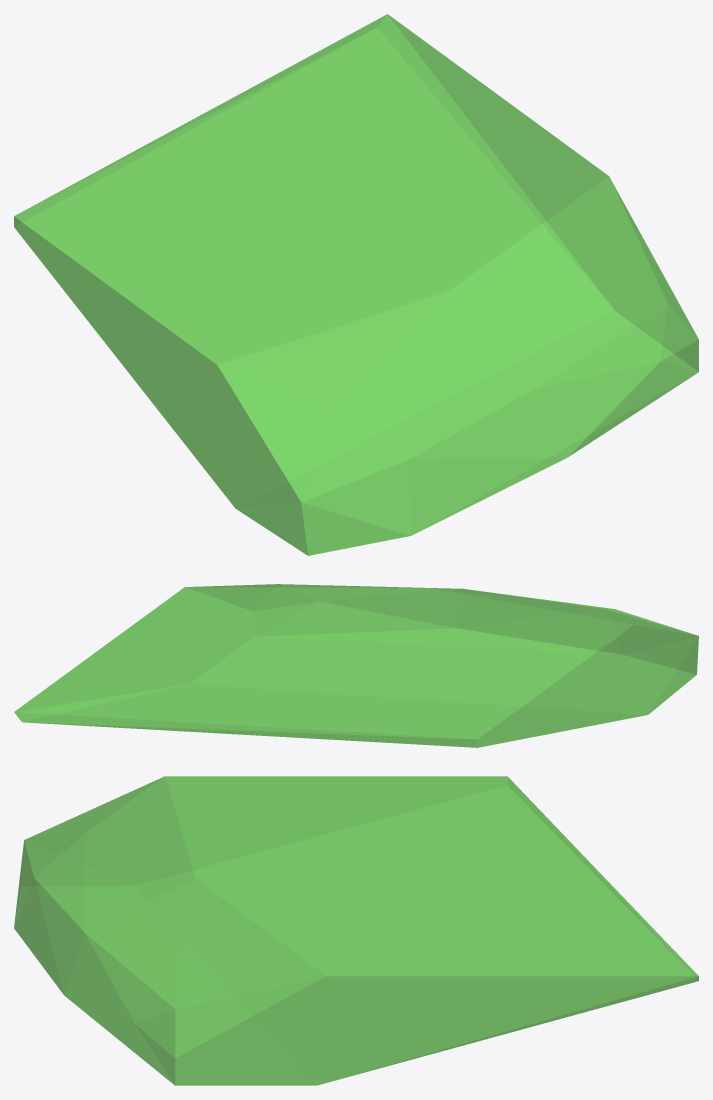
3 views of the same model, one above another, from view 1: azimuth 30°, elevation 25°; view 2: azimuth 150°, elevation 25°; view 3: azimuth 270°, elevation 25° (orthographic). The views are drawn at different scales.
Visible parts, largest first — view 1: Shape_IndexedFaceSet.014_Shape_IndexedFaceSet.7620; view 2: Shape_IndexedFaceSet.014_Shape_IndexedFaceSet.7620; view 3: Shape_IndexedFaceSet.014_Shape_IndexedFaceSet.7620.
Part boxes in pixels (x1=…): Shape_IndexedFaceSet.014_Shape_IndexedFaceSet.7620: x1=14, y1=14, x2=698, y2=555; Shape_IndexedFaceSet.014_Shape_IndexedFaceSet.7620: x1=14, y1=584, x2=698, y2=747; Shape_IndexedFaceSet.014_Shape_IndexedFaceSet.7620: x1=14, y1=776, x2=698, y2=1085.
Bounding box in the file's own units: 0.0961 × 0.0245 × 0.139.
